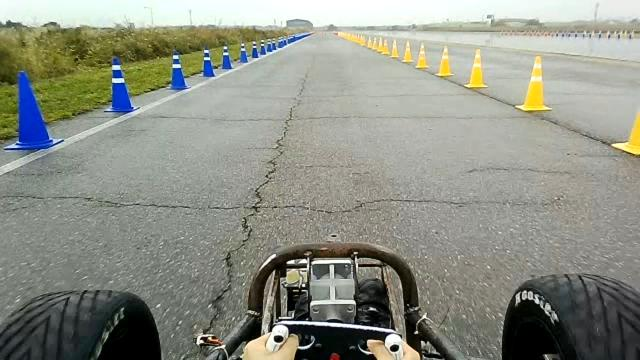blue cone: (4, 70, 64, 151), (104, 56, 140, 112), (165, 49, 191, 90), (200, 45, 216, 77), (221, 43, 233, 69), (238, 41, 248, 63), (251, 41, 259, 58), (259, 39, 267, 56)
yellow cone: (514, 55, 552, 112), (611, 110, 639, 156), (464, 48, 488, 88), (434, 45, 454, 77), (415, 41, 429, 69), (402, 39, 414, 63), (390, 38, 400, 58), (380, 38, 390, 55)
